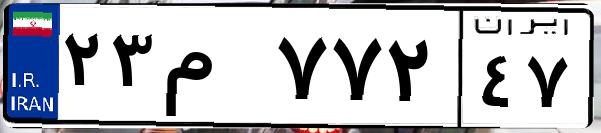2: (385, 28, 445, 110), (57, 26, 110, 100)
3: (110, 28, 158, 98)
4: (475, 38, 525, 113)
7: (270, 28, 330, 110), (330, 28, 385, 110), (525, 38, 570, 115)
م: (158, 20, 270, 120)
